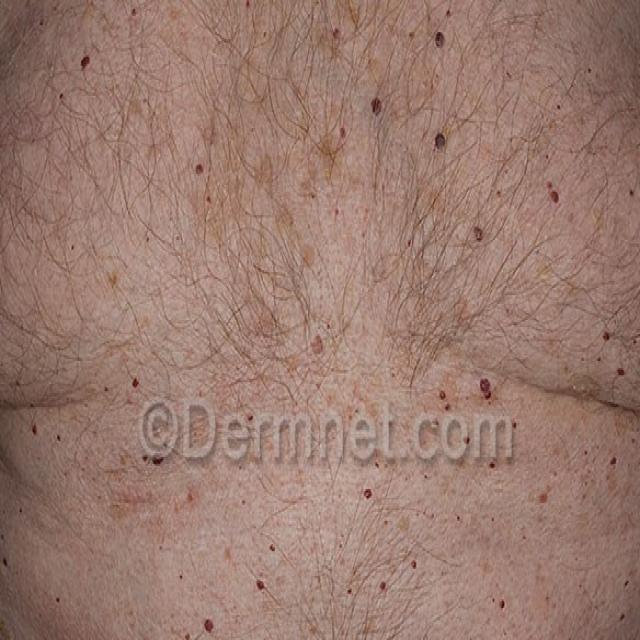Vascular Tumors: (0, 29, 640, 283), (81, 318, 640, 601), (0, 160, 41, 316)
